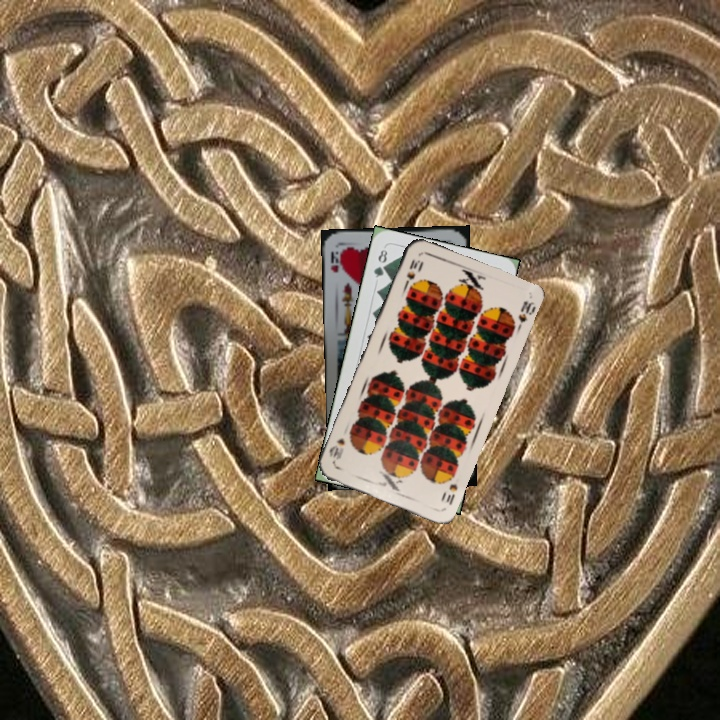G8: (369, 244, 390, 280)
HK: (326, 244, 345, 274)
S10: (400, 256, 424, 290), (442, 479, 460, 508)
